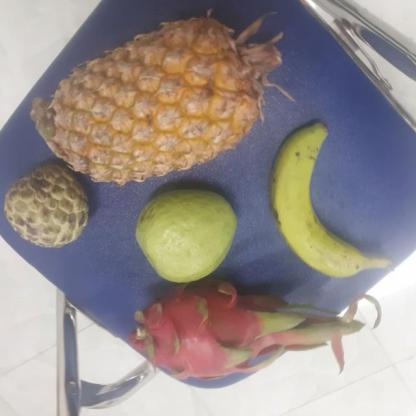annona: (5, 162, 94, 248)
banana: (274, 123, 379, 275)
guava: (136, 187, 241, 282)
pineapple: (42, 23, 280, 180)
pitaya: (135, 276, 304, 385)
